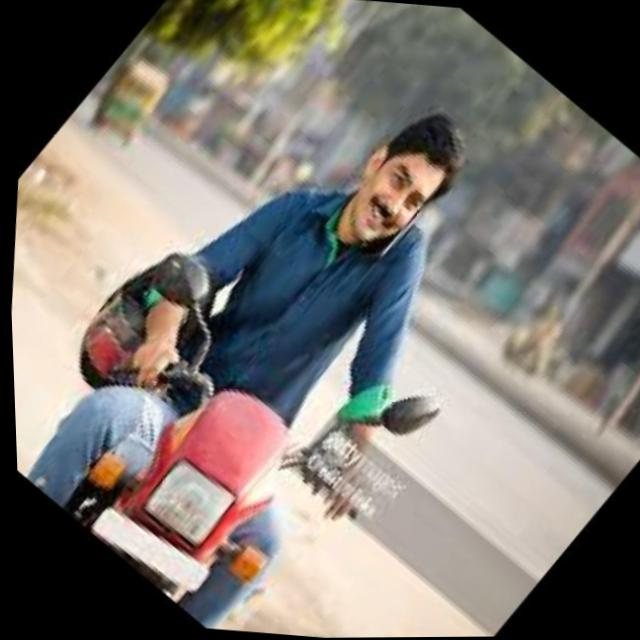USING_MOBILE: (306, 83, 495, 282)
